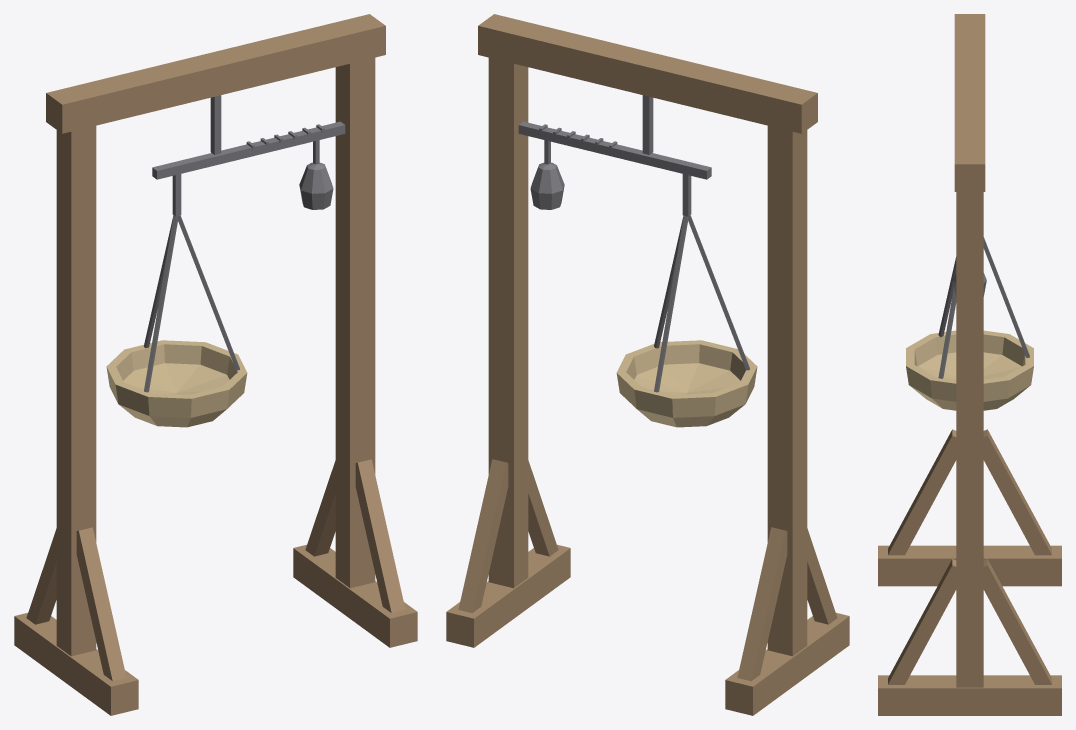
File: prop-steelyard-scale-frame.glb
3 views of the same model, side by side, from view 1: azimuth 30°, elevation 25°; view 2: azimuth 150°, elevation 25°; view 3: azimuth 270°, elevation 25° (orthographic). The views are drawn at different scales.
Visible parts, largest first — view 1: prop-steelyard-scale-frame; view 2: prop-steelyard-scale-frame; view 3: prop-steelyard-scale-frame.
Boxes of the visible parts, bbox=[...] form: prop-steelyard-scale-frame: bbox=[14, 14, 417, 715]; prop-steelyard-scale-frame: bbox=[446, 14, 849, 715]; prop-steelyard-scale-frame: bbox=[878, 14, 1061, 715].
Bounding box in the file's own units: 1.16 × 2 × 0.6.
